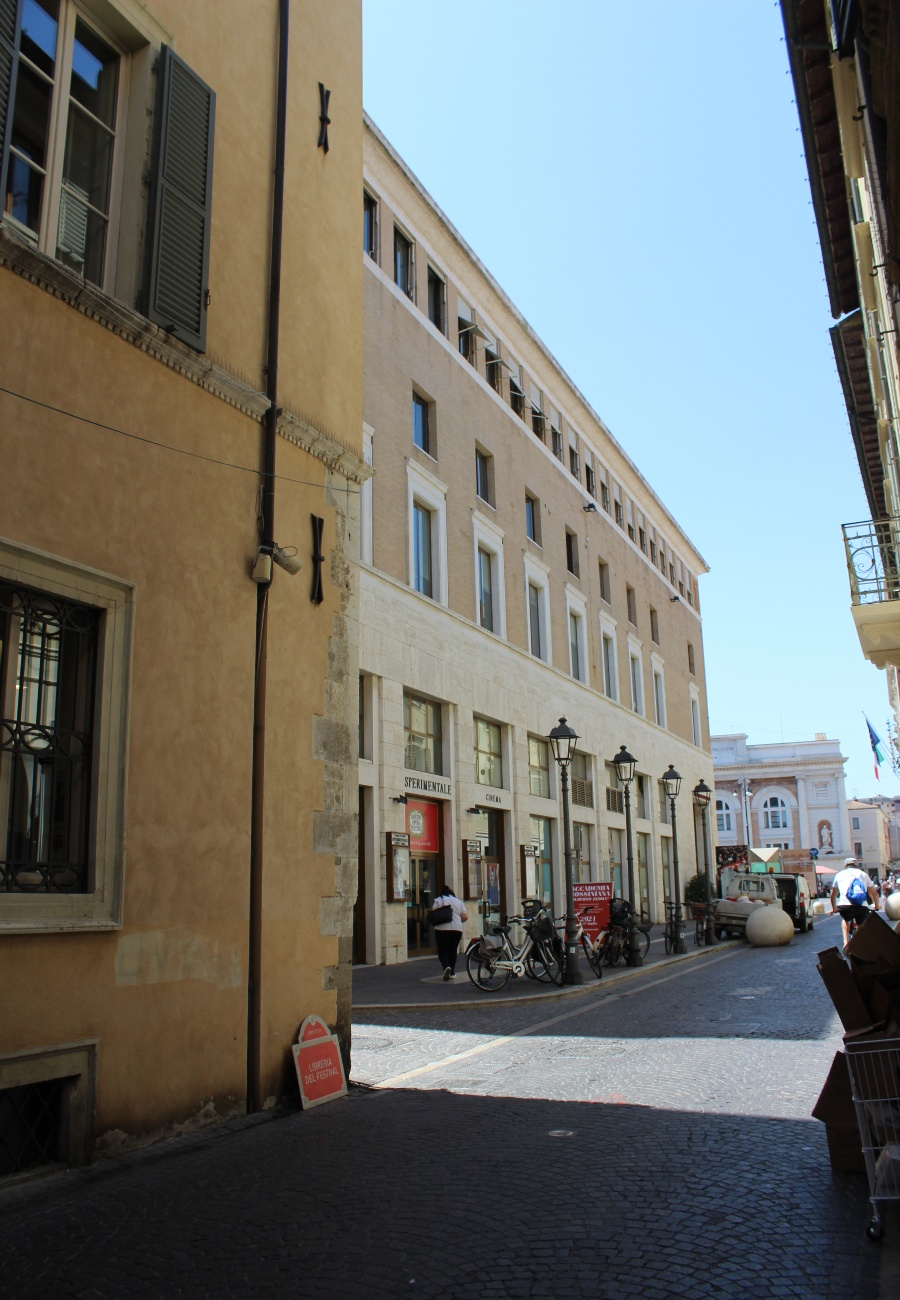Teatro Sperimentale: (365, 102, 718, 1013)
